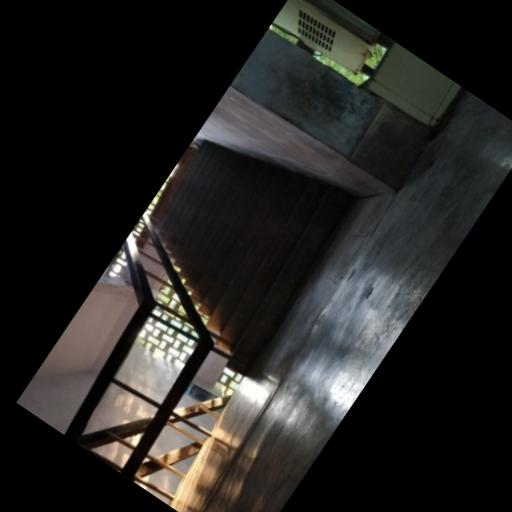stairs: (158, 143, 349, 374)
